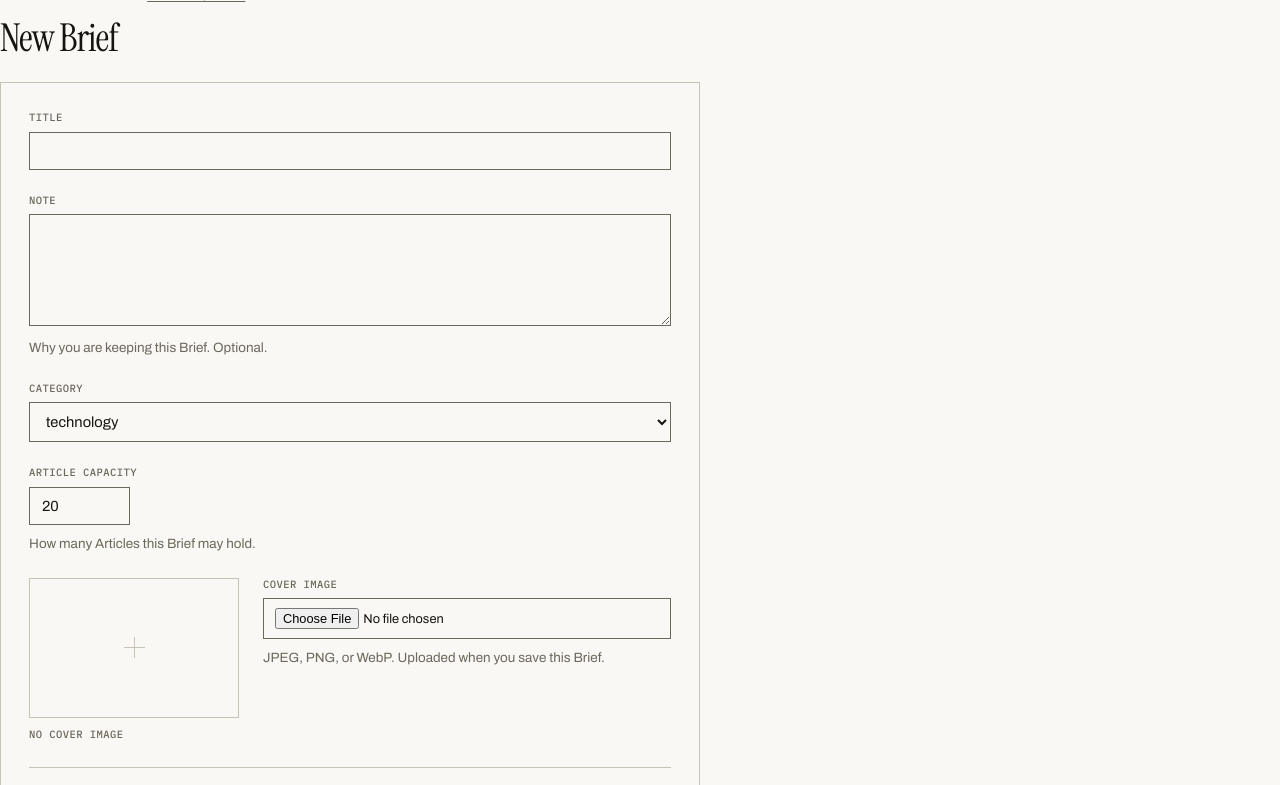
Test: BriefForm — validation › rejects a non-positive article capacity
Step 1. Type "A Brief" into the field labelled "Title" → (350, 150), box [29, 132, 671, 170]
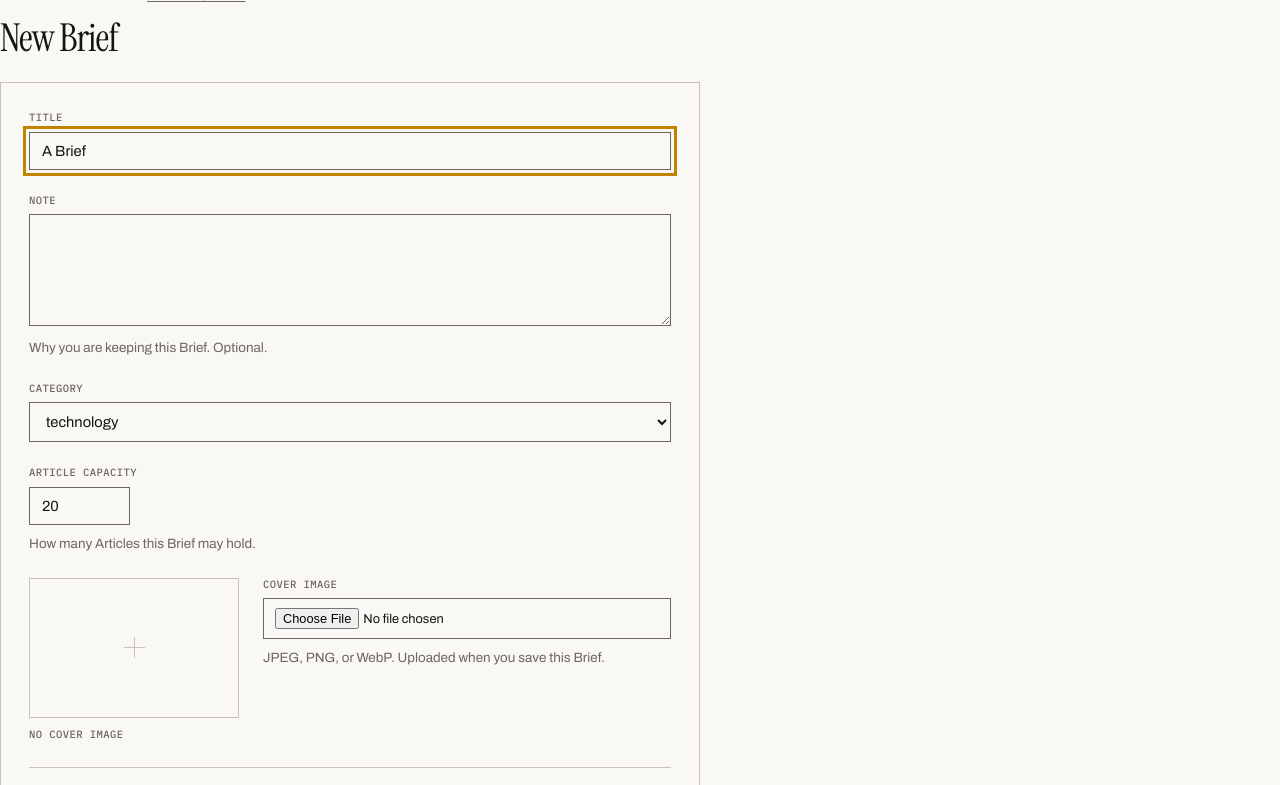
Step 2. Replace the text in the number field labelled "Article capacity" with "0" → (80, 506), box [29, 487, 130, 525]
(page scrolled)
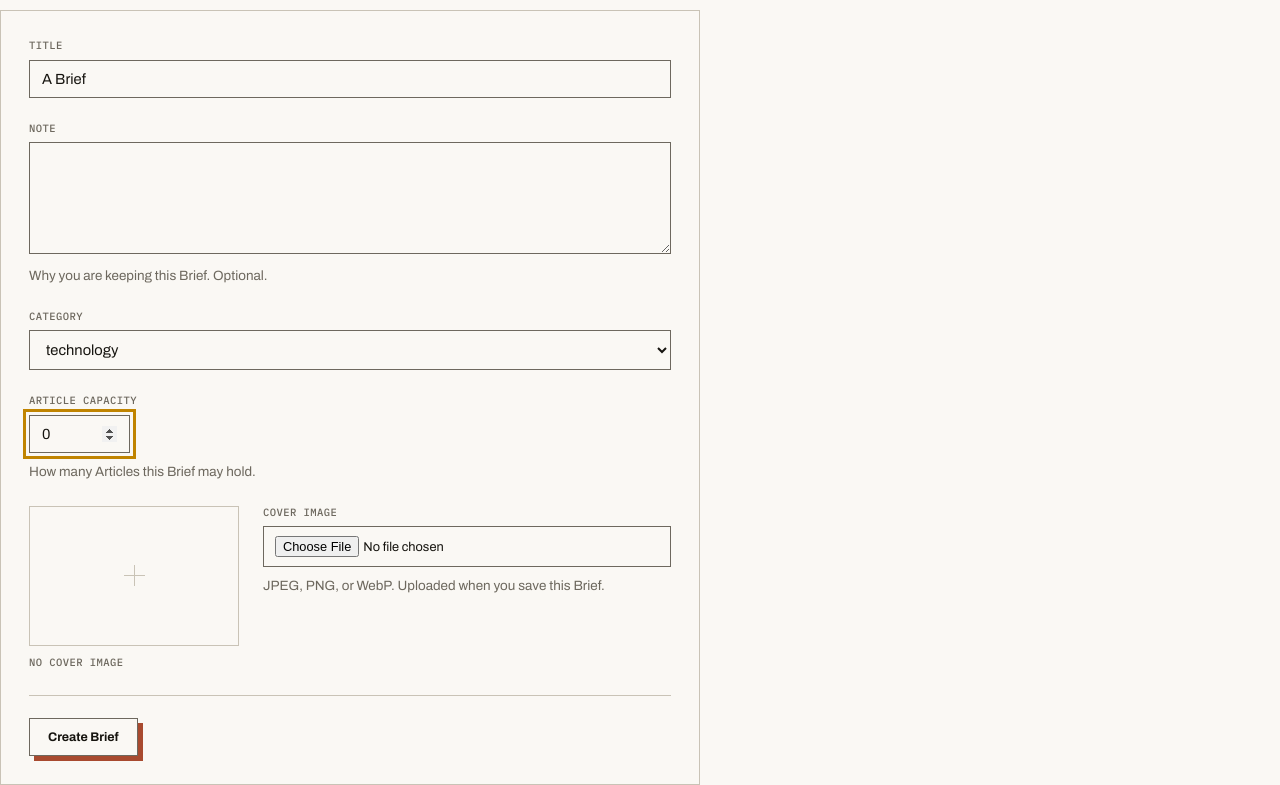
Step 3. Click the button "Create Brief" → (83, 737), box [29, 718, 138, 756]
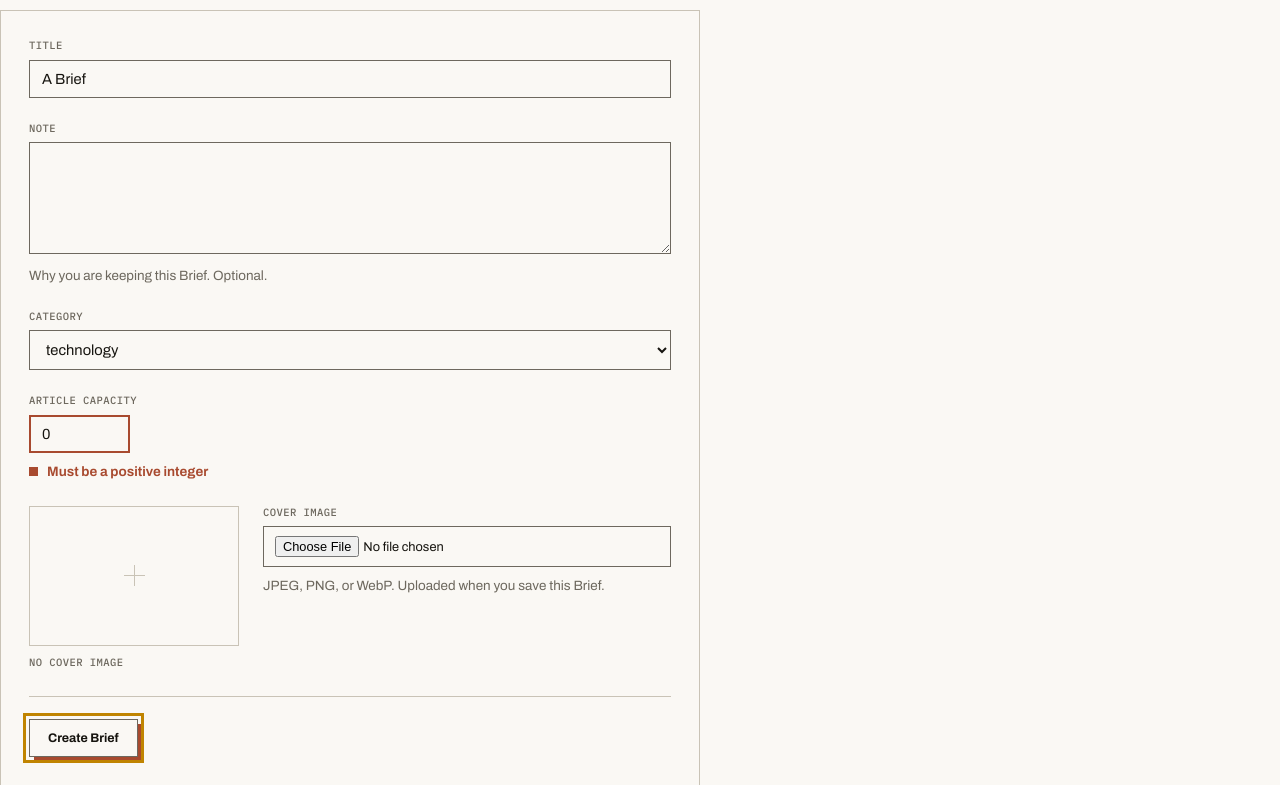
Expected: the message "Must be a positive integer" is shown, [47, 464, 208, 479]
